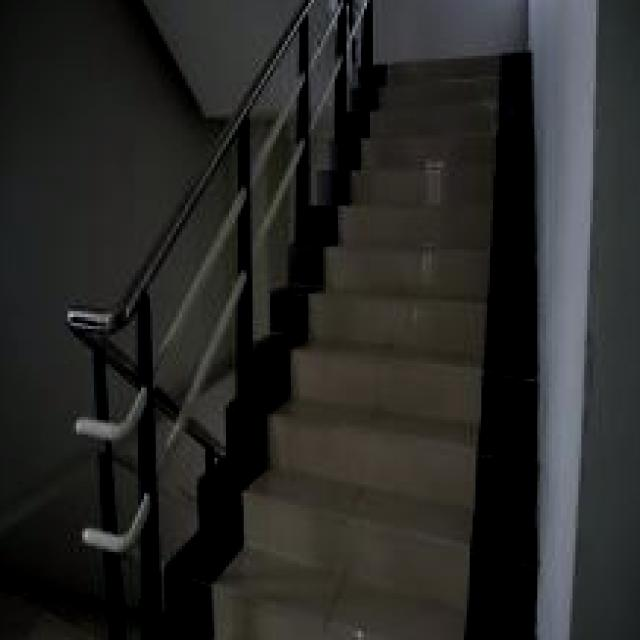upstair: (307, 198, 542, 618)
